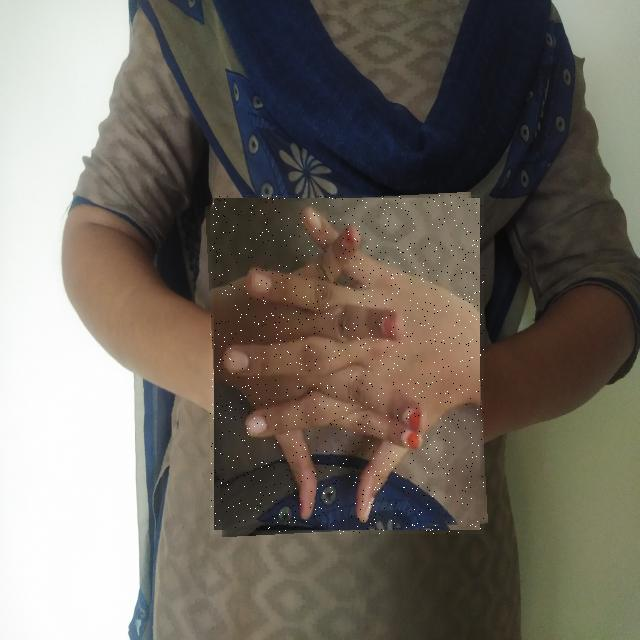W: (210, 195, 484, 534)
